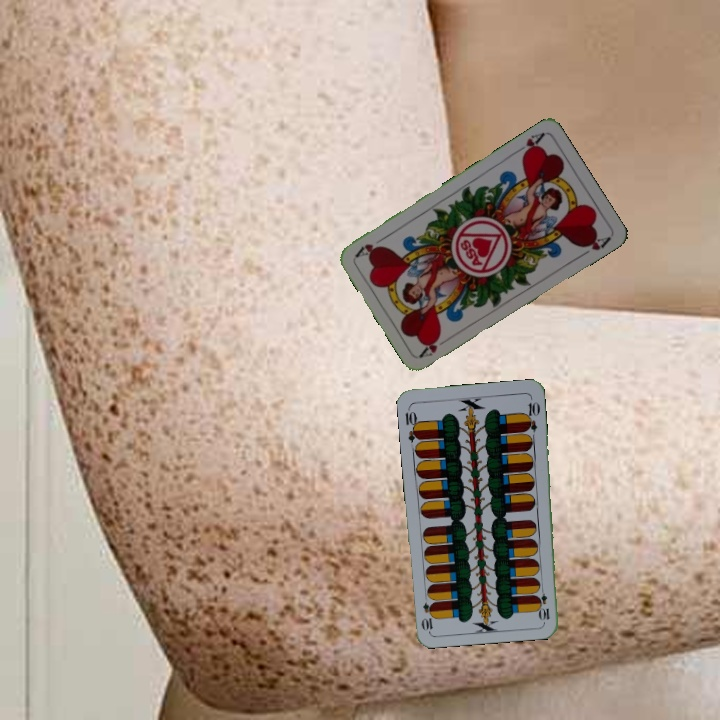E10: (401, 404, 422, 444), (536, 582, 552, 623)
HA: (510, 128, 547, 159), (416, 332, 453, 360)
